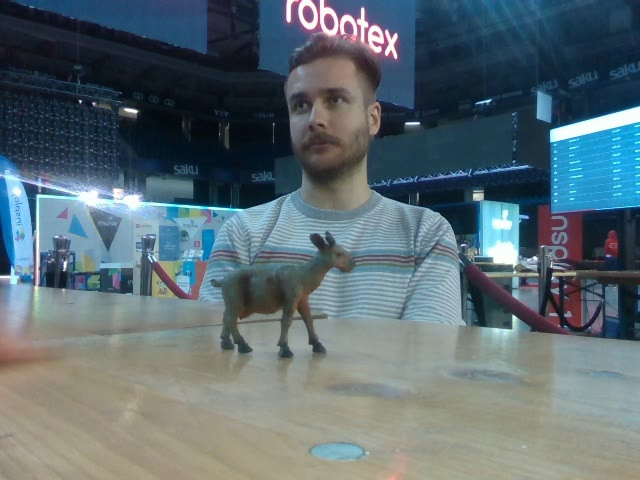toy: (209, 231, 356, 358)
